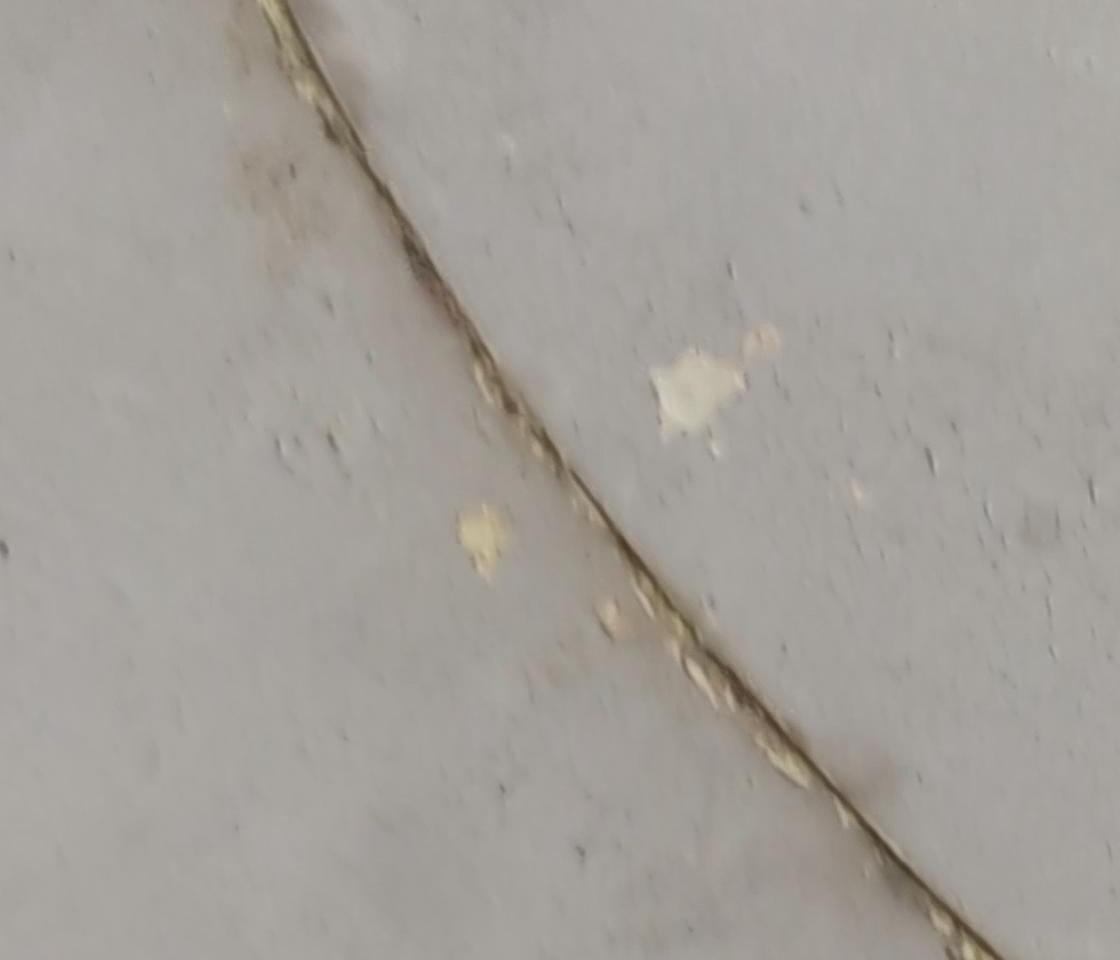paint_peel: (634, 341, 761, 449), (444, 497, 519, 593)
